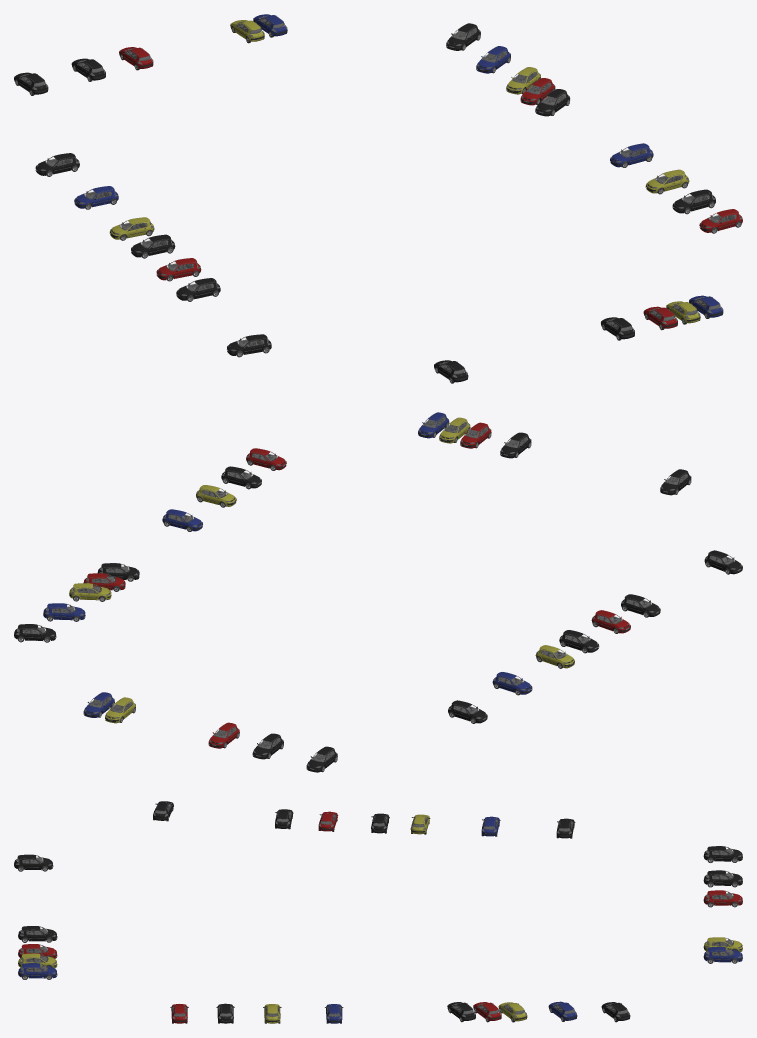
Rendered from car.glb.
The picture shows the model from 3 angles, top to bottom: view 1: azimuth 30°, elevation 25°; view 2: azimuth 150°, elevation 25°; view 3: azimuth 270°, elevation 25°; orthographic projection. The views are drawn at different scales.
Visible parts, largest first — view 1: car01.007, car04.004, car02.004, car01.006, car01.008, car01.009, car03.004, car03.003, car01.005, car02.003, car04.003, car01.003 (+4 smaller); view 2: car03.002, car04.002, car01.003, car01.005, car04.003, car02.003, car03.003, car04.004, car01.006, car01.009, car02.004, car03.004 (+2 smaller); view 3: car01, car02.001, car04.001, car01.001, car01.004, car01.010, car04, car03.002, car01.003, car02.002, car04.002, car01.002 (+3 smaller).
Part boxes in pixels (x1,y1,x2,y2): car01.007: [227, 334, 271, 357]; car04.004: [74, 186, 118, 209]; car02.004: [156, 258, 201, 281]; car01.006: [131, 234, 175, 258]; car01.008: [35, 153, 79, 176]; car01.009: [176, 278, 220, 301]; car03.004: [109, 217, 154, 240]; car03.003: [645, 169, 689, 194]; car01.005: [672, 189, 715, 214]; car02.003: [699, 209, 742, 233]; car04.003: [610, 143, 653, 167]; car01.003: [446, 23, 480, 50]; car03.002: [69, 583, 111, 601]; car04.002: [43, 603, 85, 621]; car01.003: [14, 624, 56, 642]; car01.005: [221, 466, 261, 489]; car04.003: [162, 509, 202, 531]; car02.003: [246, 448, 286, 470]; car03.003: [196, 485, 236, 507]; car04.004: [492, 672, 532, 695]; car01.006: [559, 630, 599, 653]; car01.009: [621, 594, 660, 617]; car02.004: [591, 610, 630, 633]; car03.004: [535, 645, 574, 668]; car01: [18, 926, 57, 942]; car02.001: [703, 890, 742, 907]; car04.001: [703, 946, 742, 963]; car01.001: [703, 870, 742, 887]; car01.004: [703, 846, 742, 862]; car01.010: [14, 854, 53, 871]; car04: [18, 963, 57, 979]; car03.002: [498, 1002, 527, 1022]; car01.003: [601, 1002, 630, 1022]; car02.002: [473, 1002, 501, 1022]; car04.002: [548, 1001, 577, 1021]; car01.002: [447, 1002, 475, 1022].
Bounding box in the file's own units: 55.71 × 1.44 × 78.25.
